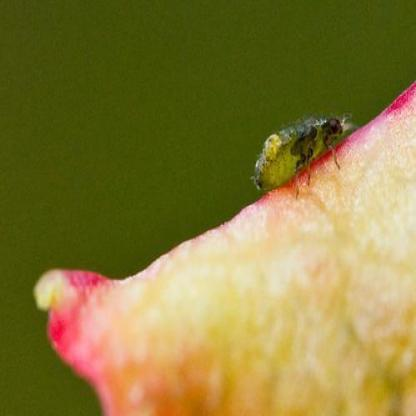aphid: (245, 102, 361, 193)
